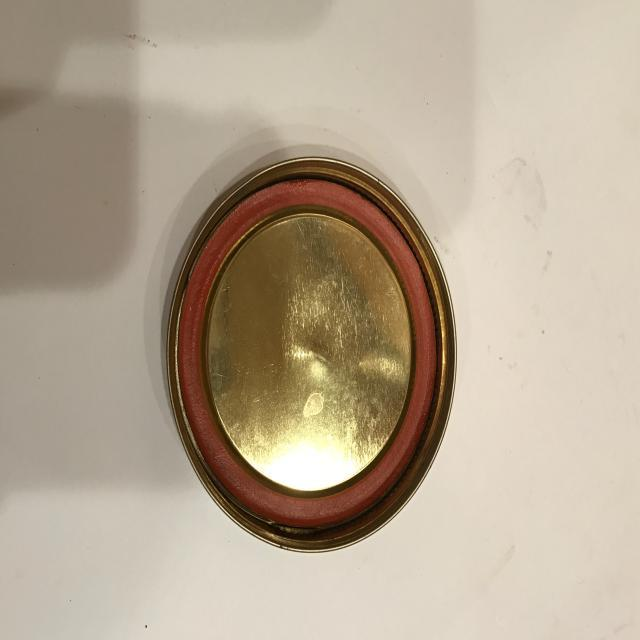metal: (166, 155, 460, 552)
